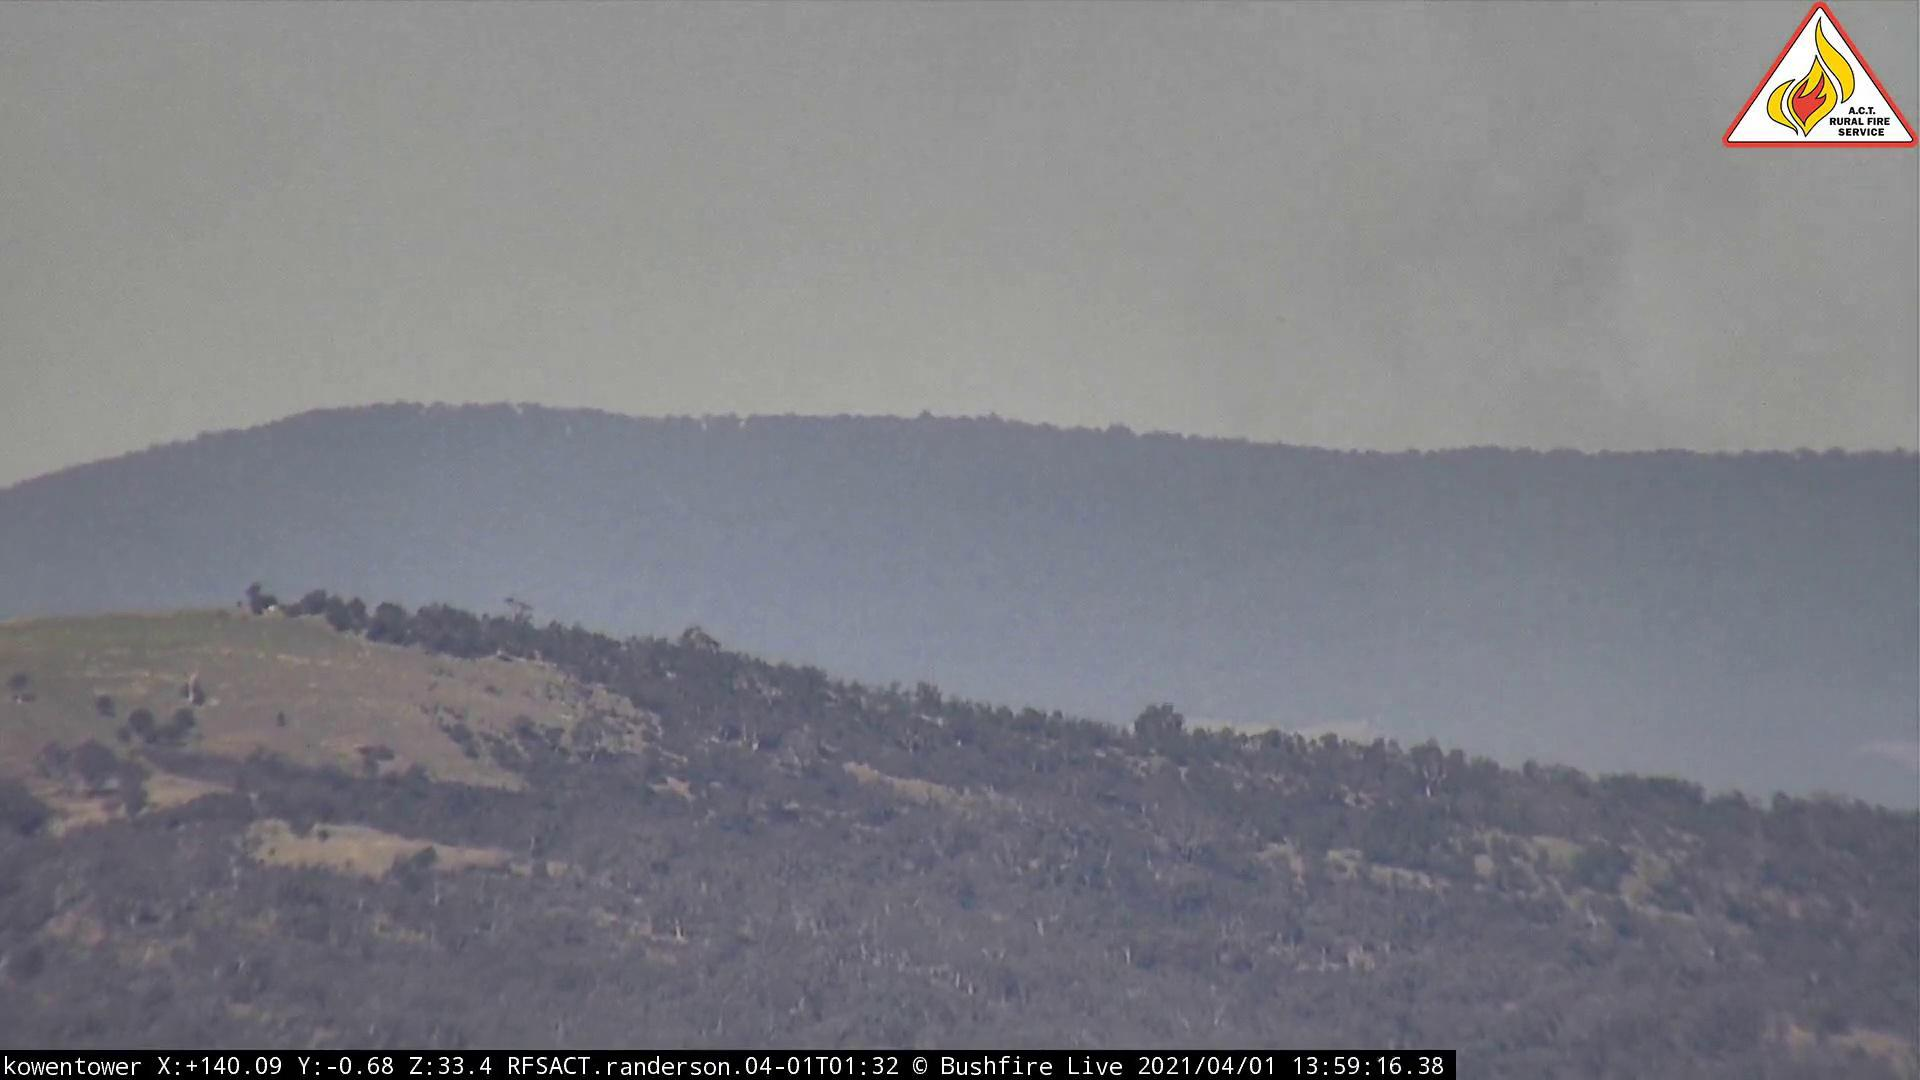Smoke: (1263, 156, 1778, 625)
